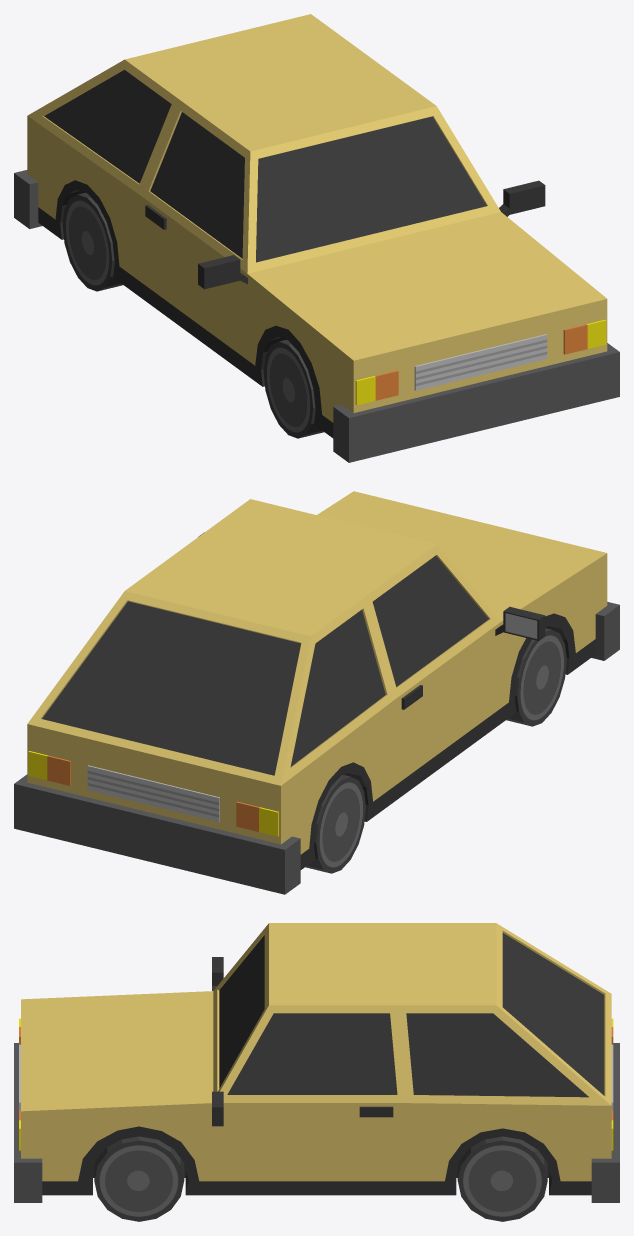
The model's file is car01_color03.fbx.
3 renders of one model, top to bottom at view 1: azimuth 30°, elevation 25°; view 2: azimuth 150°, elevation 25°; view 3: azimuth 270°, elevation 25°, orthographic. The views are drawn at different scales.
Parts seen in each view (by area): view 1: Cube.494, Cube.495, Cube.498; view 2: Cube.494, Cube.498, Cube.495; view 3: Cube.494, Cube.496, Cube.497.
Part boxes in pixels (left/top/right/bottom): Cube.494: left=14, top=14, right=619, bottom=462; Cube.495: left=263, top=340, right=323, bottom=438; Cube.498: left=62, top=192, right=122, bottom=291; Cube.494: left=14, top=491, right=619, bottom=894; Cube.498: left=305, top=775, right=365, bottom=873; Cube.495: left=506, top=628, right=566, bottom=726; Cube.494: left=14, top=923, right=619, bottom=1202; Cube.496: left=457, top=1136, right=547, bottom=1221; Cube.497: left=94, top=1136, right=184, bottom=1221.
Bounding box in the file's own units: 269 × 168 × 457.
